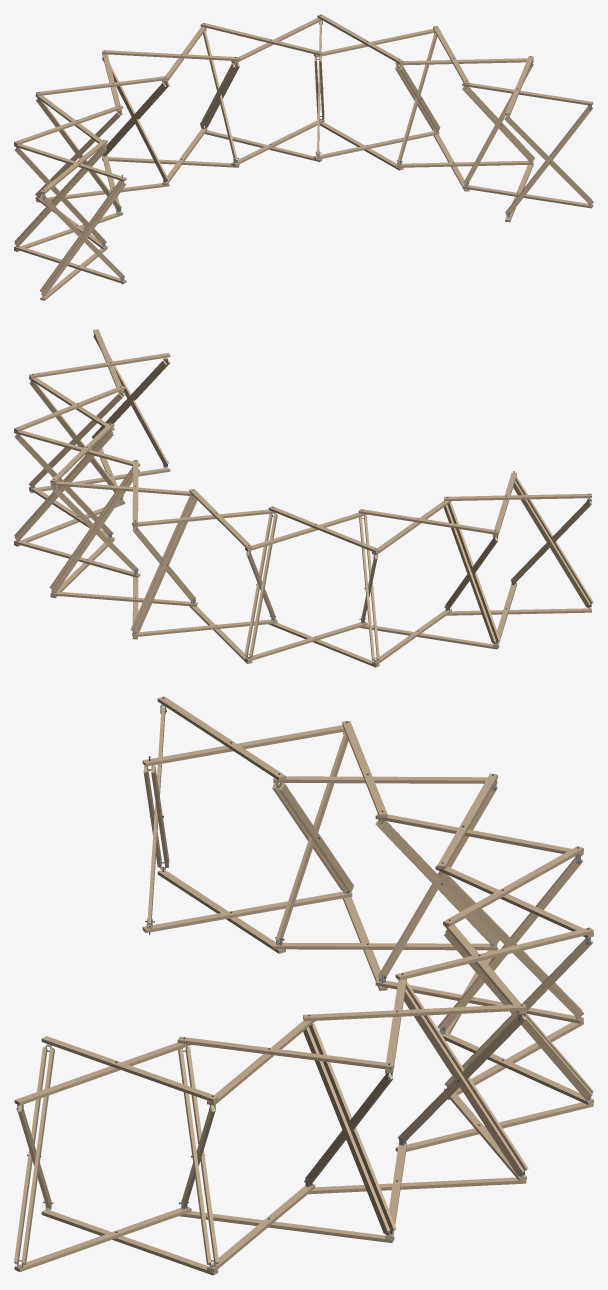
Rendered from LinkageLab_Export_1769825651687.gltf.
The picture shows the model from 3 angles, top to bottom: view 1: azimuth 30°, elevation 25°; view 2: azimuth 150°, elevation 25°; view 3: azimuth 270°, elevation 25°; orthographic projection. The views are drawn at different scales.
Parts seen in each view (by area): view 1: HBeam_Top_0 (×8), HBeam_Bottom_1 (×6), HBeam_Top_1 (×6), HBeam_Bottom_0 (×6), VBeam_7 (×3), VBeam_3 (×2), VBeam_0 (×2), VBeam_6 (×2), VBeam_1 (×2), VBeam_10, VBeam_2, VBeam_9 (+3 smaller); view 2: HBeam_Top_0 (×7), HBeam_Top_1 (×6), HBeam_Bottom_1 (×5), HBeam_Bottom_0 (×4), VBeam_7 (×3), VBeam_6 (×3), VBeam_2 (×3), VBeam_4 (×2), VBeam_5 (×2), VBeam_0 (×2), VBeam_1 (×2), VBeam_3 (×2) (+3 smaller); view 3: HBeam_Top_0 (×8), HBeam_Top_1 (×8), HBeam_Bottom_1 (×8), HBeam_Bottom_0 (×7), VBeam_4 (×3), VBeam_1 (×3), VBeam_3 (×3), VBeam_5 (×3), VBeam_2 (×2), VBeam_6 (×2), VBeam_0 (×2), VBeam_7.
Boxes of the visible parts, x1,y1,x2,y2 form: HBeam_Top_0 (×8): (14,14,533,194); HBeam_Bottom_1 (×6): (14,118,593,283); HBeam_Top_1 (×6): (14,17,593,181); HBeam_Bottom_0 (×6): (14,122,403,300); VBeam_7 (×3): (39,82,166,291); VBeam_3 (×2): (203,30,593,205); VBeam_0 (×2): (463,64,534,183); VBeam_6 (×2): (14,63,235,244); VBeam_1 (×2): (397,33,440,163); VBeam_10: (41,181,125,295); VBeam_2: (505,105,592,214); VBeam_9: (14,147,106,246); HBeam_Top_0 (×7): (14,353,591,552); HBeam_Top_1 (×6): (14,377,451,554); HBeam_Bottom_1 (×5): (14,540,451,665); HBeam_Bottom_0 (×4): (189,606,591,667); VBeam_7 (×3): (249,481,592,657); VBeam_6 (×3): (134,497,498,643); VBeam_2 (×3): (49,336,168,588); VBeam_4 (×2): (14,431,272,656); VBeam_5 (×2): (52,469,374,660); VBeam_0 (×2): (28,382,123,497); VBeam_1 (×2): (14,360,166,535); VBeam_3 (×2): (130,496,195,631); HBeam_Top_0 (×8): (41,696,593,1102); HBeam_Top_1 (×8): (14,725,593,1105); HBeam_Bottom_1 (×8): (14,891,593,1271); HBeam_Bottom_0 (×7): (41,869,593,1275); VBeam_4 (×3): (309,857,583,1231); VBeam_1 (×3): (21,1027,393,1264); VBeam_3 (×3): (14,931,592,1264); VBeam_5 (×3): (378,787,528,1170); VBeam_2 (×2): (395,987,526,1175); VBeam_6 (×2): (275,732,353,942); VBeam_0 (×2): (178,1047,218,1264); VBeam_7: (147,707,165,925).
Size of the model in its own units: 409 by 84.15 by 249.
